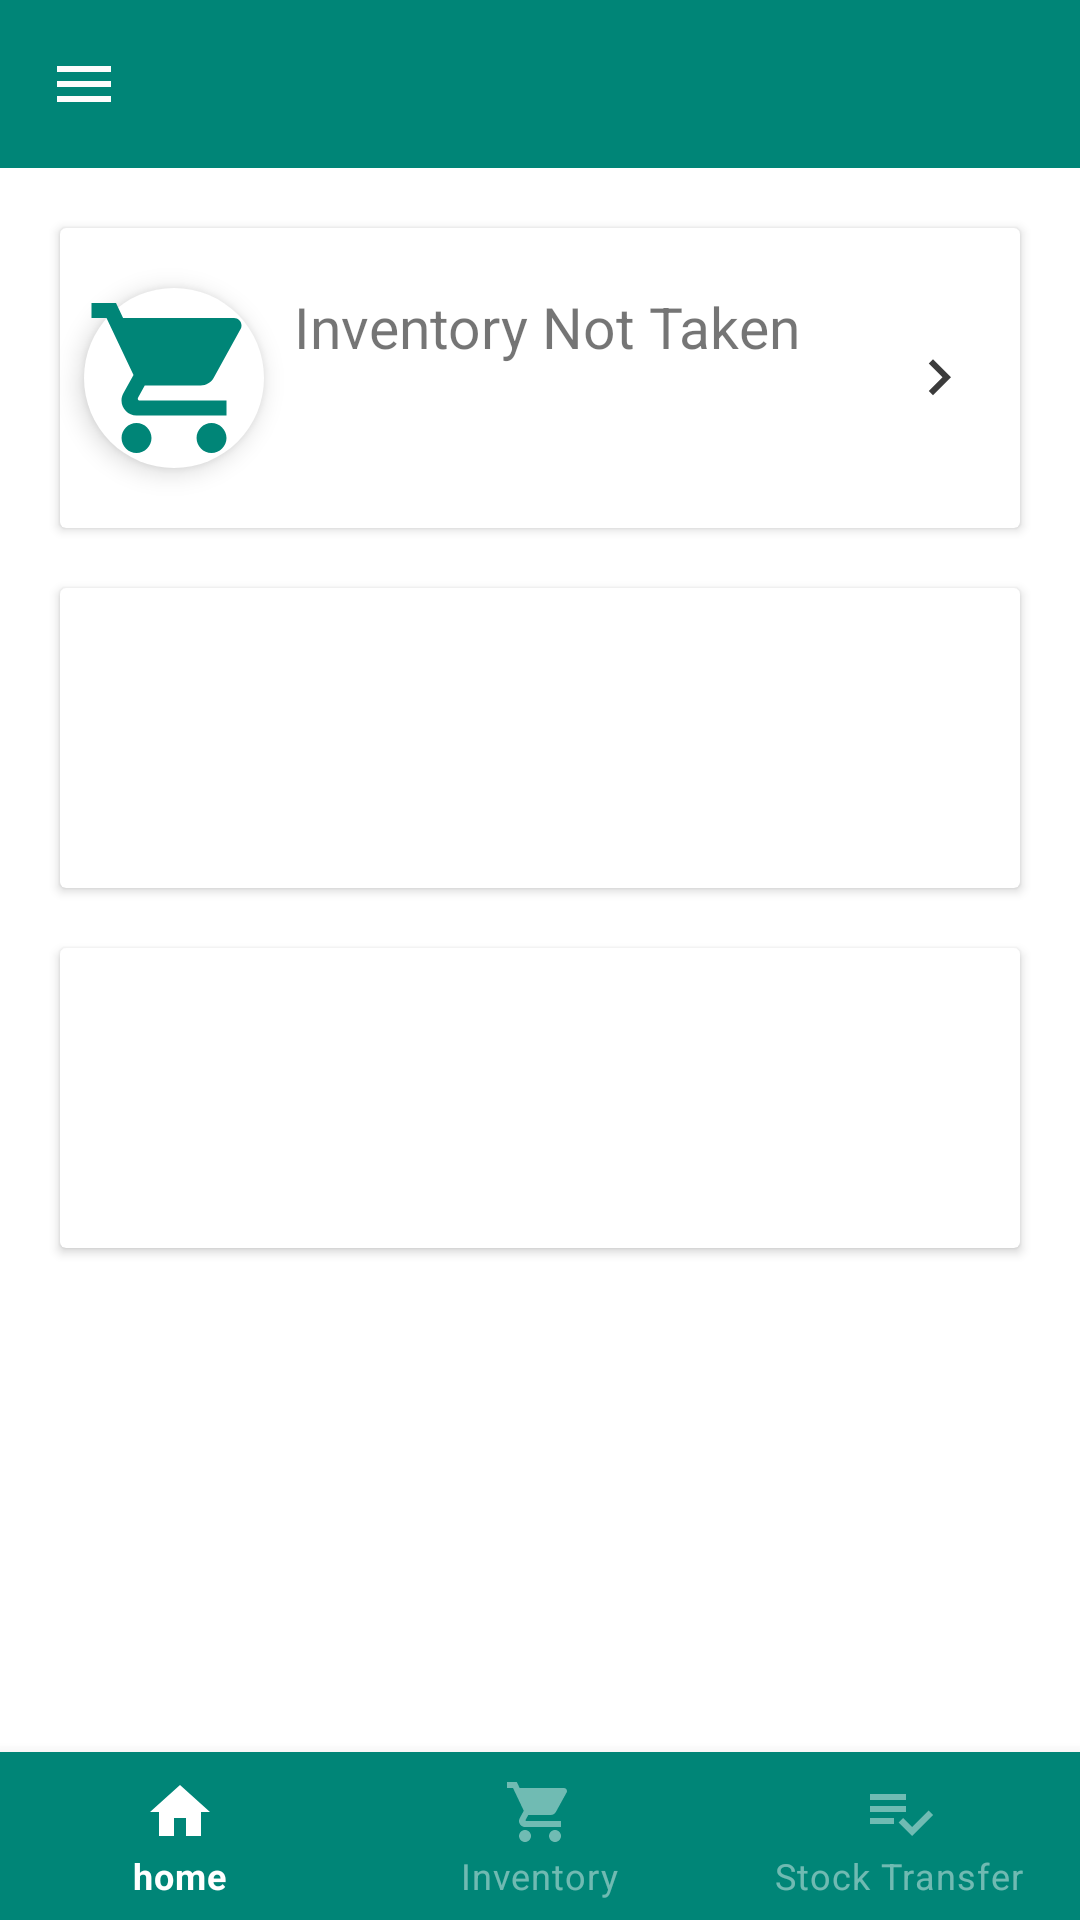

Named icons in this screenshot (1080px×1920px) and their bounding boxes, (x1, y1, x2, y2):
keyboard arrow right: (929, 359, 951, 395)
menu: (57, 66, 111, 102)
shopping cart: (84, 303, 242, 468)
